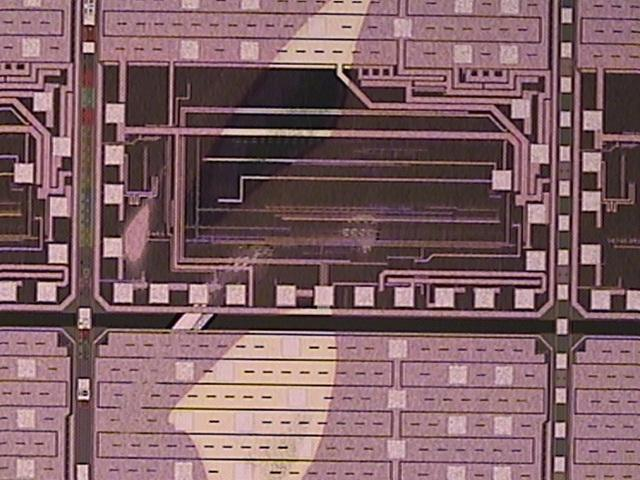COATING BAD: (111, 1, 395, 480)
